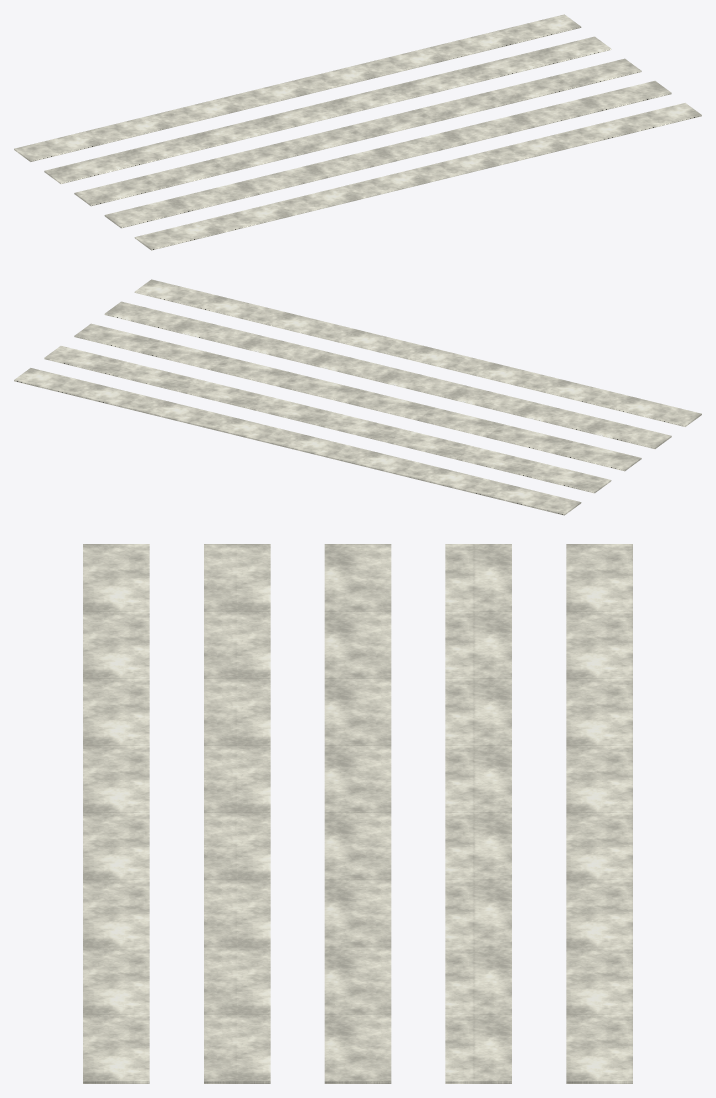
The model's file is MKT_ZebraCrossing_8m.obj.
3 views of the same model, one above another, from view 1: azimuth 30°, elevation 25°; view 2: azimuth 150°, elevation 25°; view 3: azimuth 270°, elevation 25° (orthographic). The views are drawn at different scales.
Visible parts, largest first — view 1: MKT_ZebraCrossing_8m; view 2: MKT_ZebraCrossing_8m; view 3: MKT_ZebraCrossing_8m.
Part boxes in pixels (bbox=[...]): MKT_ZebraCrossing_8m: bbox=[14, 14, 701, 250]; MKT_ZebraCrossing_8m: bbox=[14, 279, 701, 515]; MKT_ZebraCrossing_8m: bbox=[83, 544, 632, 1083].
Size of the model in its own units: 8 by 0.018 by 3.46.
Materials: 1 (1 with a texture image).
